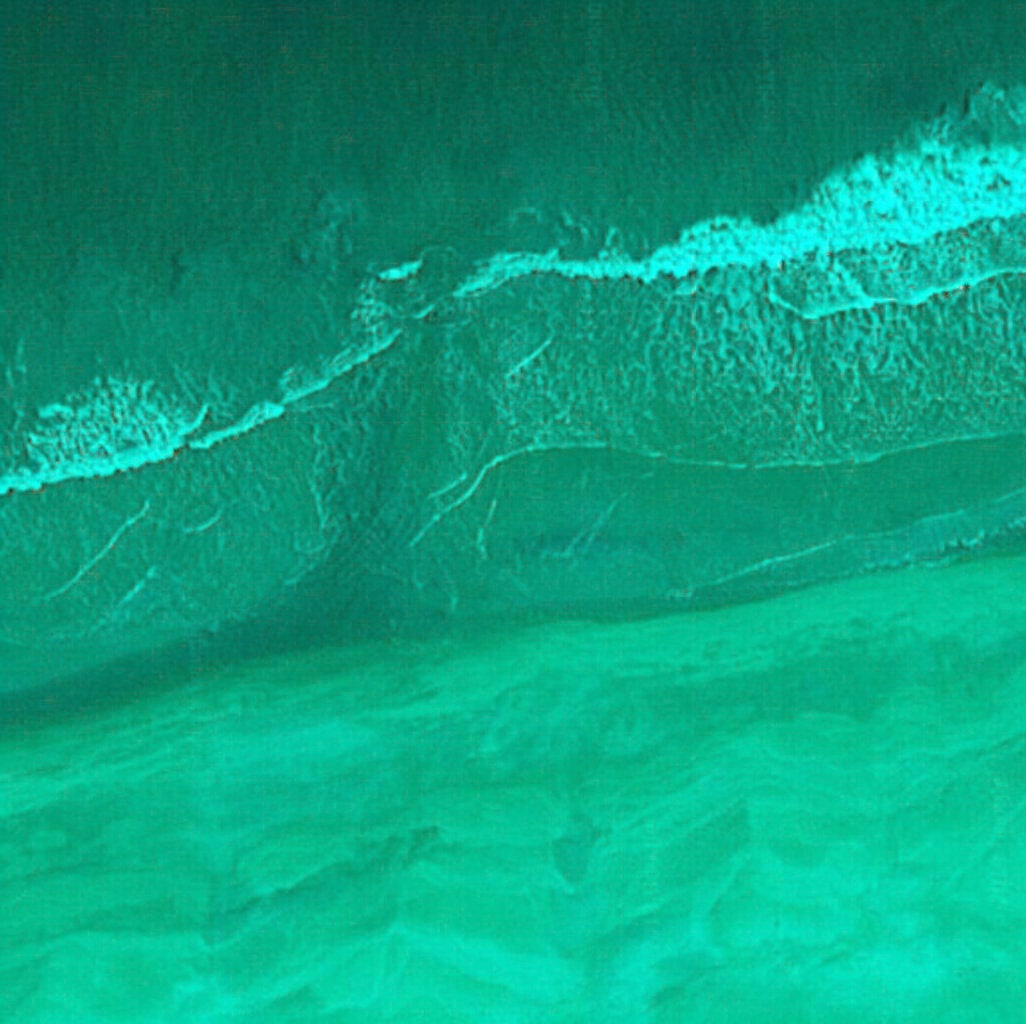rip_current: (235, 259, 466, 619)
